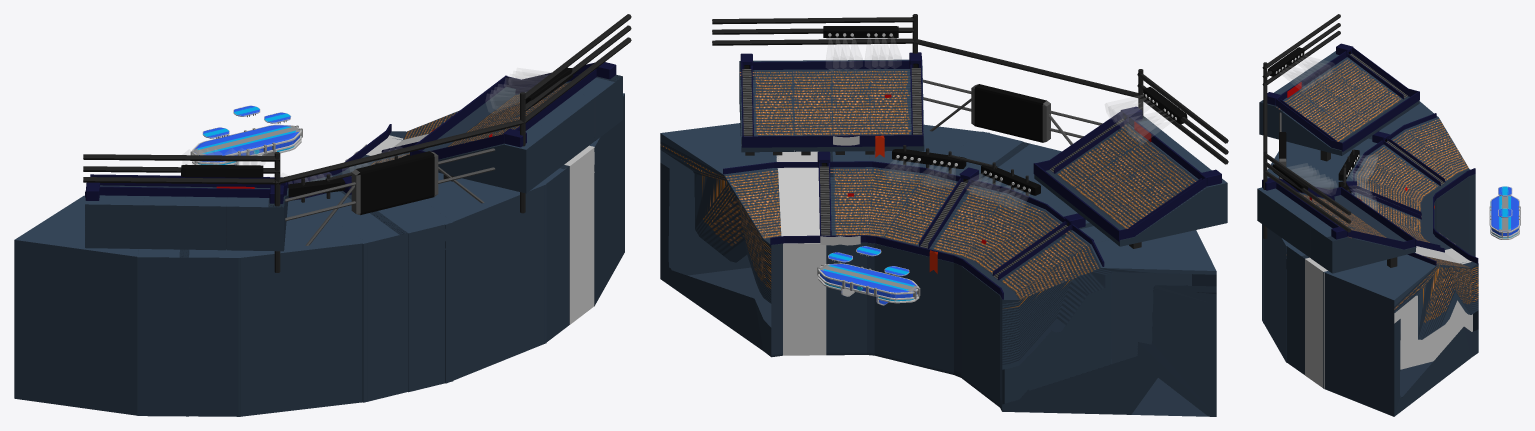
Rendered from Estadio_Fusfus.obj.
3 views of the same model, side by side, from view 1: azimuth 30°, elevation 25°; view 2: azimuth 150°, elevation 25°; view 3: azimuth 270°, elevation 25° (orthographic). The views are drawn at different scales.
Parts seen in each view (by area): view 1: no_grada.009_Cube.036, no_vigas_Cylinder.011, no_pantalla_Cylinder.002, pisa plat_central, no_luces_Cone.012, no_focos.002_Cube.011, no_pared.000_Cube.037, no_pared.010_Cube.057, no_pared.011_Cube.038, no_escalera.003_Cube.052, no_pared.009_Cube.035, no_pared.014_Cube.071 (+1 smaller); view 2: no_grada.009_Cube.036, no_vigas_Cylinder.011, no_luces_Cone.012, no_pantalla_Cylinder.002, no_pared.009_Cube.035, no_focos.002_Cube.011, pisa plat_central, no_pared.010_Cube.057, no_pared.014_Cube.071, no_pared.011_Cube.038, no_escalera.005_Cube.043, no_carteles_Plane.007 (+9 smaller); view 3: no_grada.009_Cube.036, no_vigas_Cylinder.011, no_luces_Cone.012, no_pared.009_Cube.035, pisa plat_central, no_focos.002_Cube.011, no_pared.011_Cube.038, no_pared.010_Cube.057, no_escalera.006_Cube.044, no_escalera.001_Cube.015, no_escalera.005_Cube.043, no_escalera_Cube.003 (+7 smaller).
Boxes of the visible parts, x1=… form: no_grada.009_Cube.036: x1=14, y1=75, x2=624, y2=416; no_vigas_Cylinder.011: x1=83, y1=14, x2=631, y2=272; no_pantalla_Cylinder.002: x1=269, y1=148, x2=495, y2=245; pisa plat_central: x1=190, y1=124, x2=302, y2=165; no_luces_Cone.012: x1=183, y1=68, x2=550, y2=183; no_focos.002_Cube.011: x1=181, y1=67, x2=573, y2=197; no_pared.000_Cube.037: x1=99, y1=186, x2=269, y2=197; no_pared.010_Cube.057: x1=410, y1=75, x2=521, y2=155; no_pared.011_Cube.038: x1=90, y1=174, x2=288, y2=194; no_escalera.003_Cube.052: x1=430, y1=134, x2=504, y2=159; no_pared.009_Cube.035: x1=85, y1=124, x2=391, y2=200; no_pared.014_Cube.071: x1=515, y1=69, x2=596, y2=130; no_grada.009_Cube.036: x1=660, y1=59, x2=1227, y2=416; no_vigas_Cylinder.011: x1=712, y1=14, x2=1228, y2=196; no_luces_Cone.012: x1=826, y1=35, x2=1172, y2=211; no_pantalla_Cylinder.002: x1=923, y1=79, x2=1121, y2=144; no_pared.009_Cube.035: x1=723, y1=161, x2=1104, y2=299; no_focos.002_Cube.011: x1=823, y1=26, x2=1187, y2=195; pisa plat_central: x1=817, y1=263, x2=920, y2=305; no_pared.010_Cube.057: x1=742, y1=128, x2=923, y2=147; no_pared.014_Cube.071: x1=753, y1=60, x2=909, y2=69; no_pared.011_Cube.038: x1=1033, y1=160, x2=1134, y2=241; no_escalera.005_Cube.043: x1=1049, y1=111, x2=1127, y2=173; no_carteles_Plane.007: x1=820, y1=94, x2=1151, y2=273; no_grada.009_Cube.036: x1=1257, y1=51, x2=1478, y2=416; no_vigas_Cylinder.011: x1=1262, y1=14, x2=1354, y2=238; no_luces_Cone.012: x1=1279, y1=56, x2=1378, y2=211; no_pared.009_Cube.035: x1=1353, y1=113, x2=1478, y2=265; pisa plat_central: x1=1489, y1=195, x2=1520, y2=239; no_focos.002_Cube.011: x1=1267, y1=47, x2=1359, y2=193; no_pared.011_Cube.038: x1=1331, y1=88, x2=1419, y2=151; no_pared.010_Cube.057: x1=1329, y1=187, x2=1416, y2=249; no_escalera.006_Cube.044: x1=1347, y1=47, x2=1407, y2=99; no_escalera.001_Cube.015: x1=1384, y1=138, x2=1445, y2=185; no_escalera.005_Cube.043: x1=1275, y1=99, x2=1336, y2=146; no_escalera_Cube.003: x1=1355, y1=185, x2=1421, y2=219.
Bounding box in the file's own units: 178 × 75.51 × 91.1.
